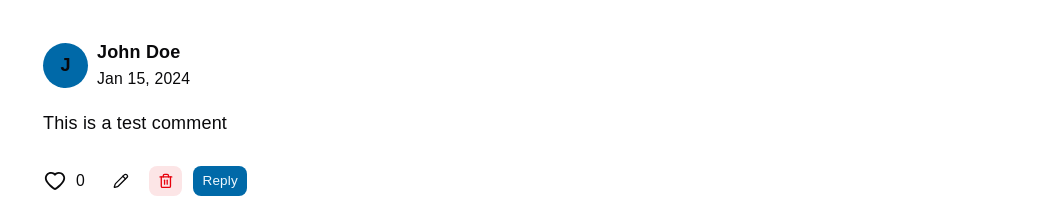
Test case: CommentItem › edit mode › should show edit form when edit button is clicked
Click the 2nd button.
click(121, 181)  # box [103, 165, 139, 197]
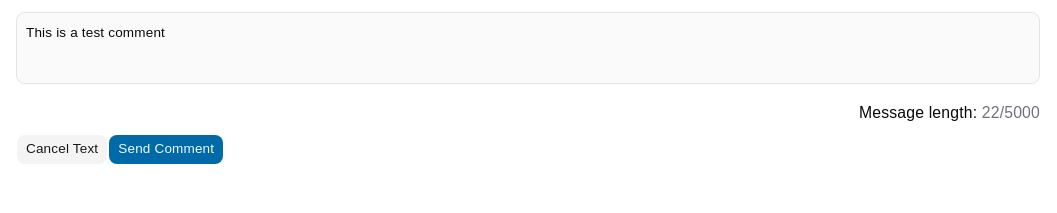
Expected: the text box with placeholder "Edit your comment..." is shown, [16, 12, 1040, 84]
